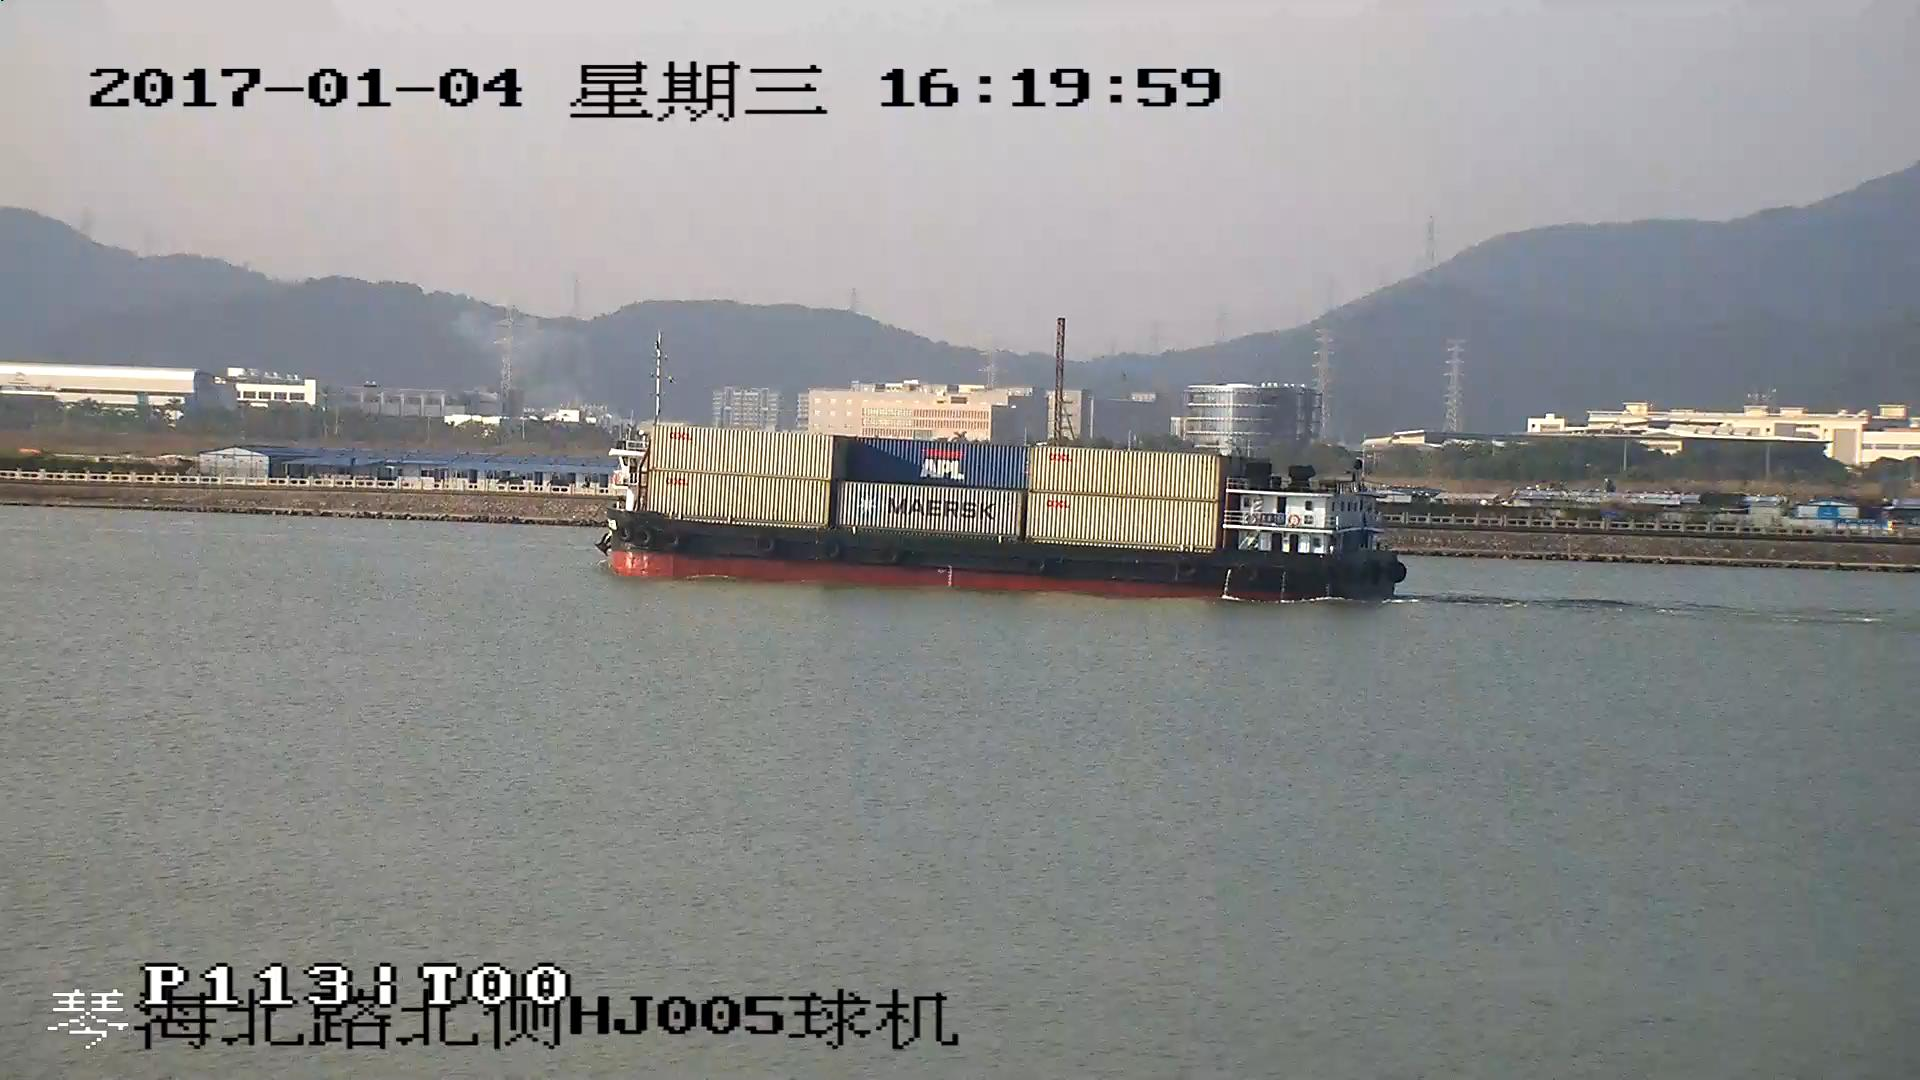container ship: (589, 421, 1405, 601)
